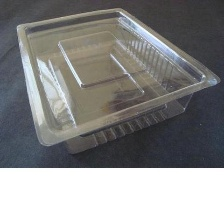plastic_box: (12, 3, 224, 160)
